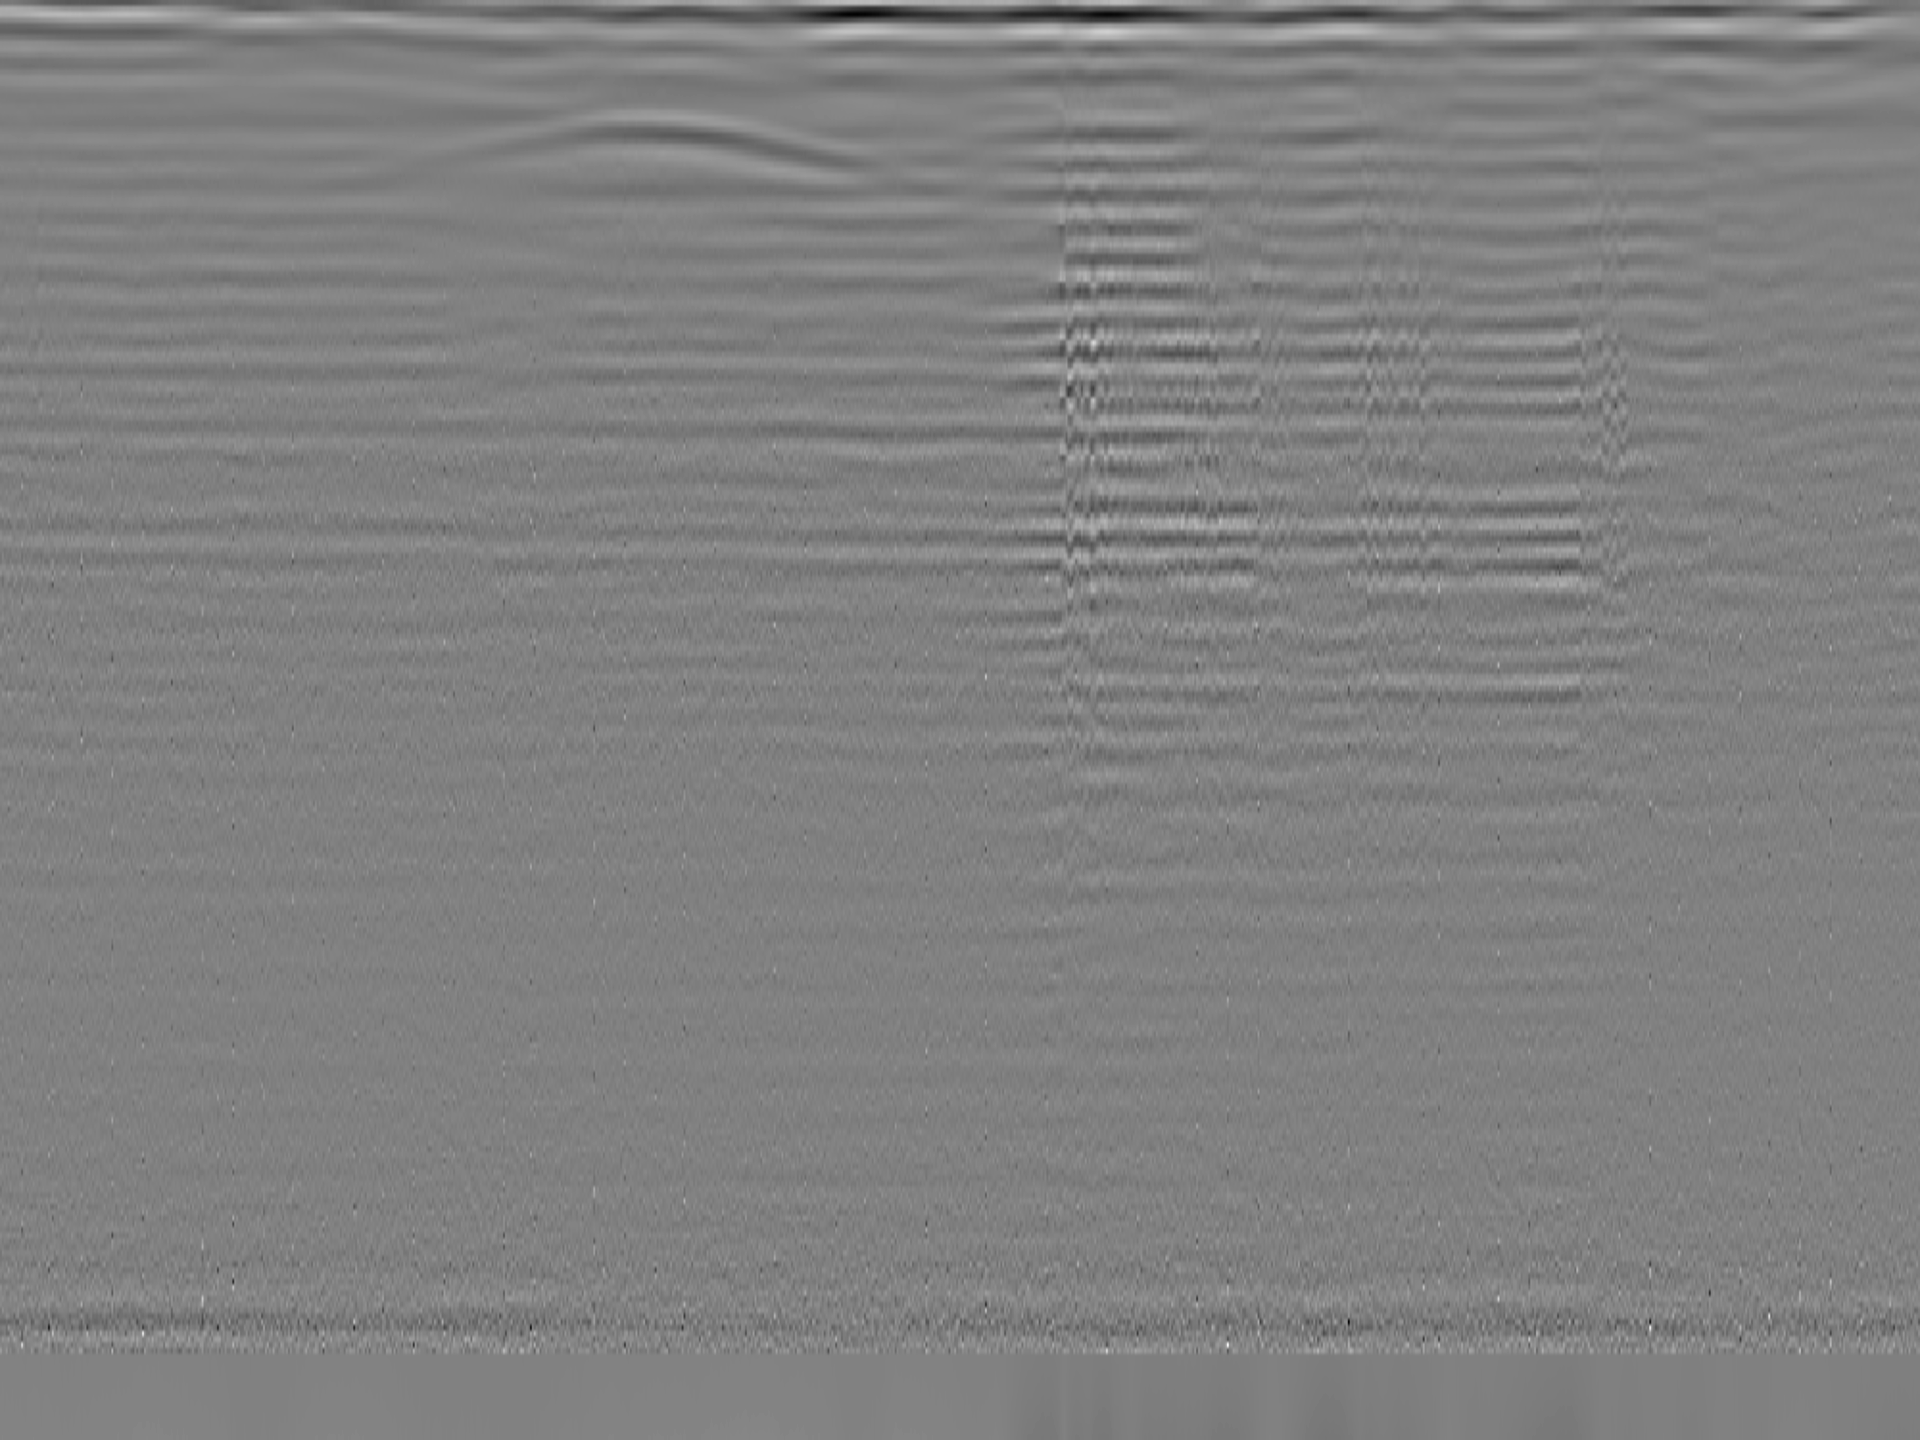Tunnel: (381, 109, 898, 191)
